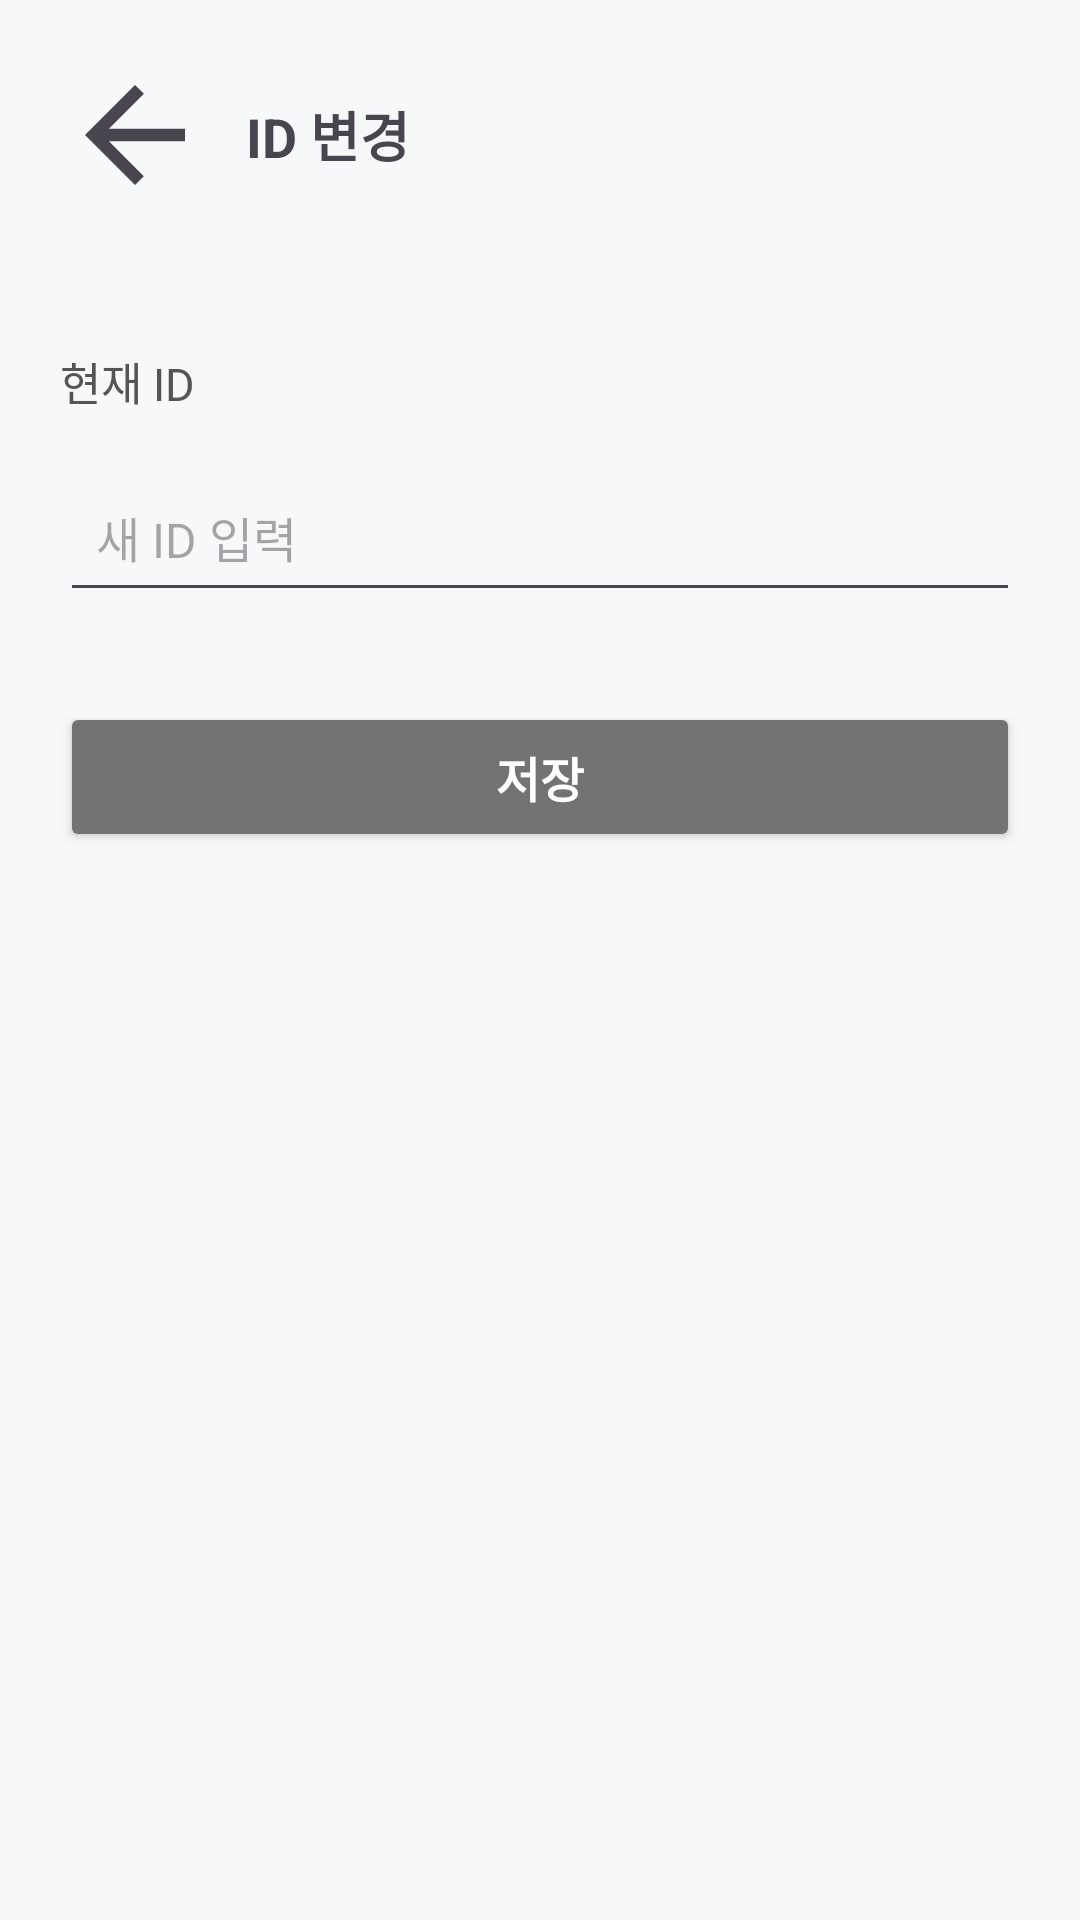

Where to tap for icons on this 1080x1920 app screen, as point (x, y):
Back: point (135, 135)
